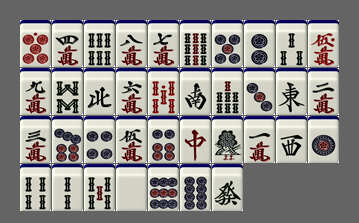0m: (308, 20, 339, 67)
0p: (20, 20, 51, 67)
0s: (148, 68, 179, 115)
1m: (244, 116, 275, 163)
1p: (308, 116, 339, 163)
1s: (212, 116, 243, 163)
1z: (276, 68, 307, 115)
2m: (308, 68, 339, 115)
2p: (244, 20, 275, 67)
2s: (52, 164, 83, 211)
2z: (180, 68, 211, 115)
3m: (20, 116, 51, 163)
3p: (244, 68, 275, 115)
3s: (276, 20, 307, 67)
3z: (276, 116, 307, 163)
4m: (52, 20, 83, 67)
4p: (84, 116, 115, 163)
4s: (20, 164, 51, 211)
4z: (84, 68, 115, 115)
5m: (116, 116, 147, 163)
5p: (212, 20, 243, 67)
5s: (84, 164, 115, 211)
5z: (116, 164, 147, 211)
6m: (116, 68, 147, 115)
6p: (148, 116, 179, 163)
6s: (84, 20, 115, 67)
6z: (212, 164, 243, 211)
7m: (148, 20, 179, 67)
7p: (52, 116, 83, 163)
7s: (212, 68, 243, 115)
7z: (180, 116, 211, 163)
8m: (116, 20, 147, 67)
8p: (180, 164, 211, 211)
8s: (52, 68, 83, 115)
9m: (20, 68, 51, 115)
9p: (148, 164, 179, 211)
9s: (180, 20, 211, 67)
